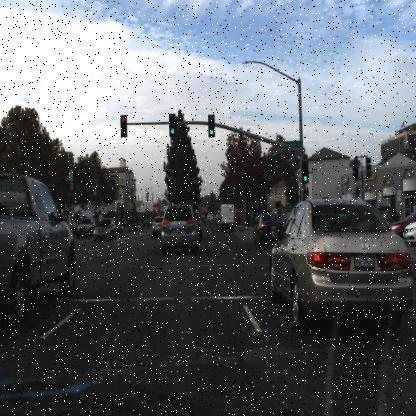car: (267, 193, 415, 338), (0, 171, 78, 329), (156, 198, 202, 258), (249, 208, 286, 251), (215, 198, 239, 239), (90, 214, 120, 245), (387, 206, 415, 235), (150, 208, 164, 244), (150, 210, 164, 243), (220, 202, 236, 225), (135, 222, 144, 232), (128, 223, 136, 232)
trafficLight: (118, 111, 131, 142), (205, 112, 219, 140), (166, 110, 178, 141), (302, 161, 310, 184)
trafficLight-Green: (298, 158, 310, 186)
